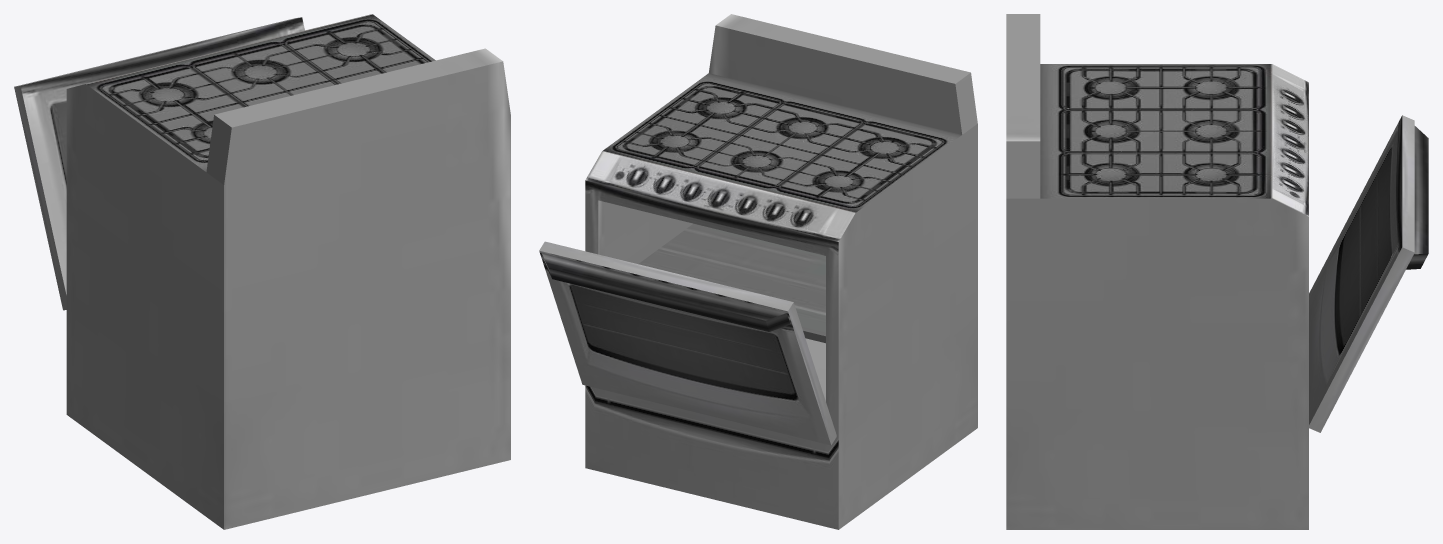
Rendered from furnace.glb.
3 renders of one model, left to right at view 1: azimuth 30°, elevation 25°; view 2: azimuth 150°, elevation 25°; view 3: azimuth 270°, elevation 25°, orthographic. The views are drawn at different scales.
Visible parts, largest first — view 1: Stove_03, Stove_door_03; view 2: Stove_03, Stove_door_03; view 3: Stove_03, Stove_door_03.
Boxes of the visible parts, <box> form: Stove_03: <box>66,14,510,529</box>; Stove_door_03: <box>14,17,304,310</box>; Stove_03: <box>585,14,977,529</box>; Stove_door_03: <box>539,241,836,445</box>; Stove_03: <box>1006,14,1308,529</box>; Stove_door_03: <box>1309,115,1428,432</box>.
Size of the model in its own units: 0.9088 by 1.21 by 1.21.
Materials: 1 (1 with a texture image).
